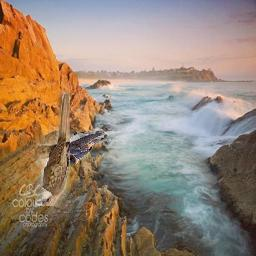Cuckoo: (36, 90, 71, 206)
Swallow: (66, 132, 105, 164)
